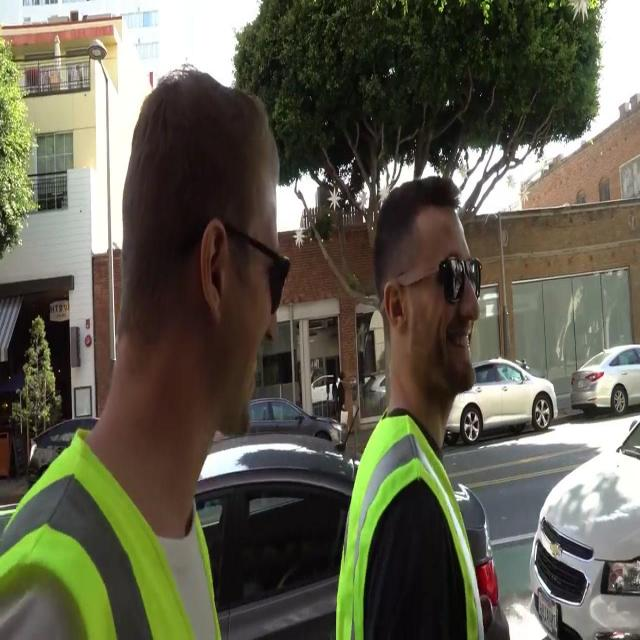Reflective-Jacket: (2, 407, 224, 640), (332, 398, 498, 640)
